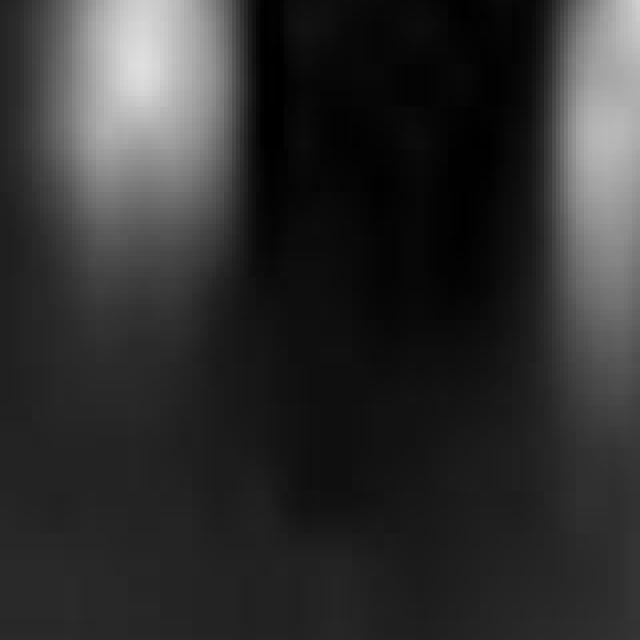person: (29, 1, 245, 321)
